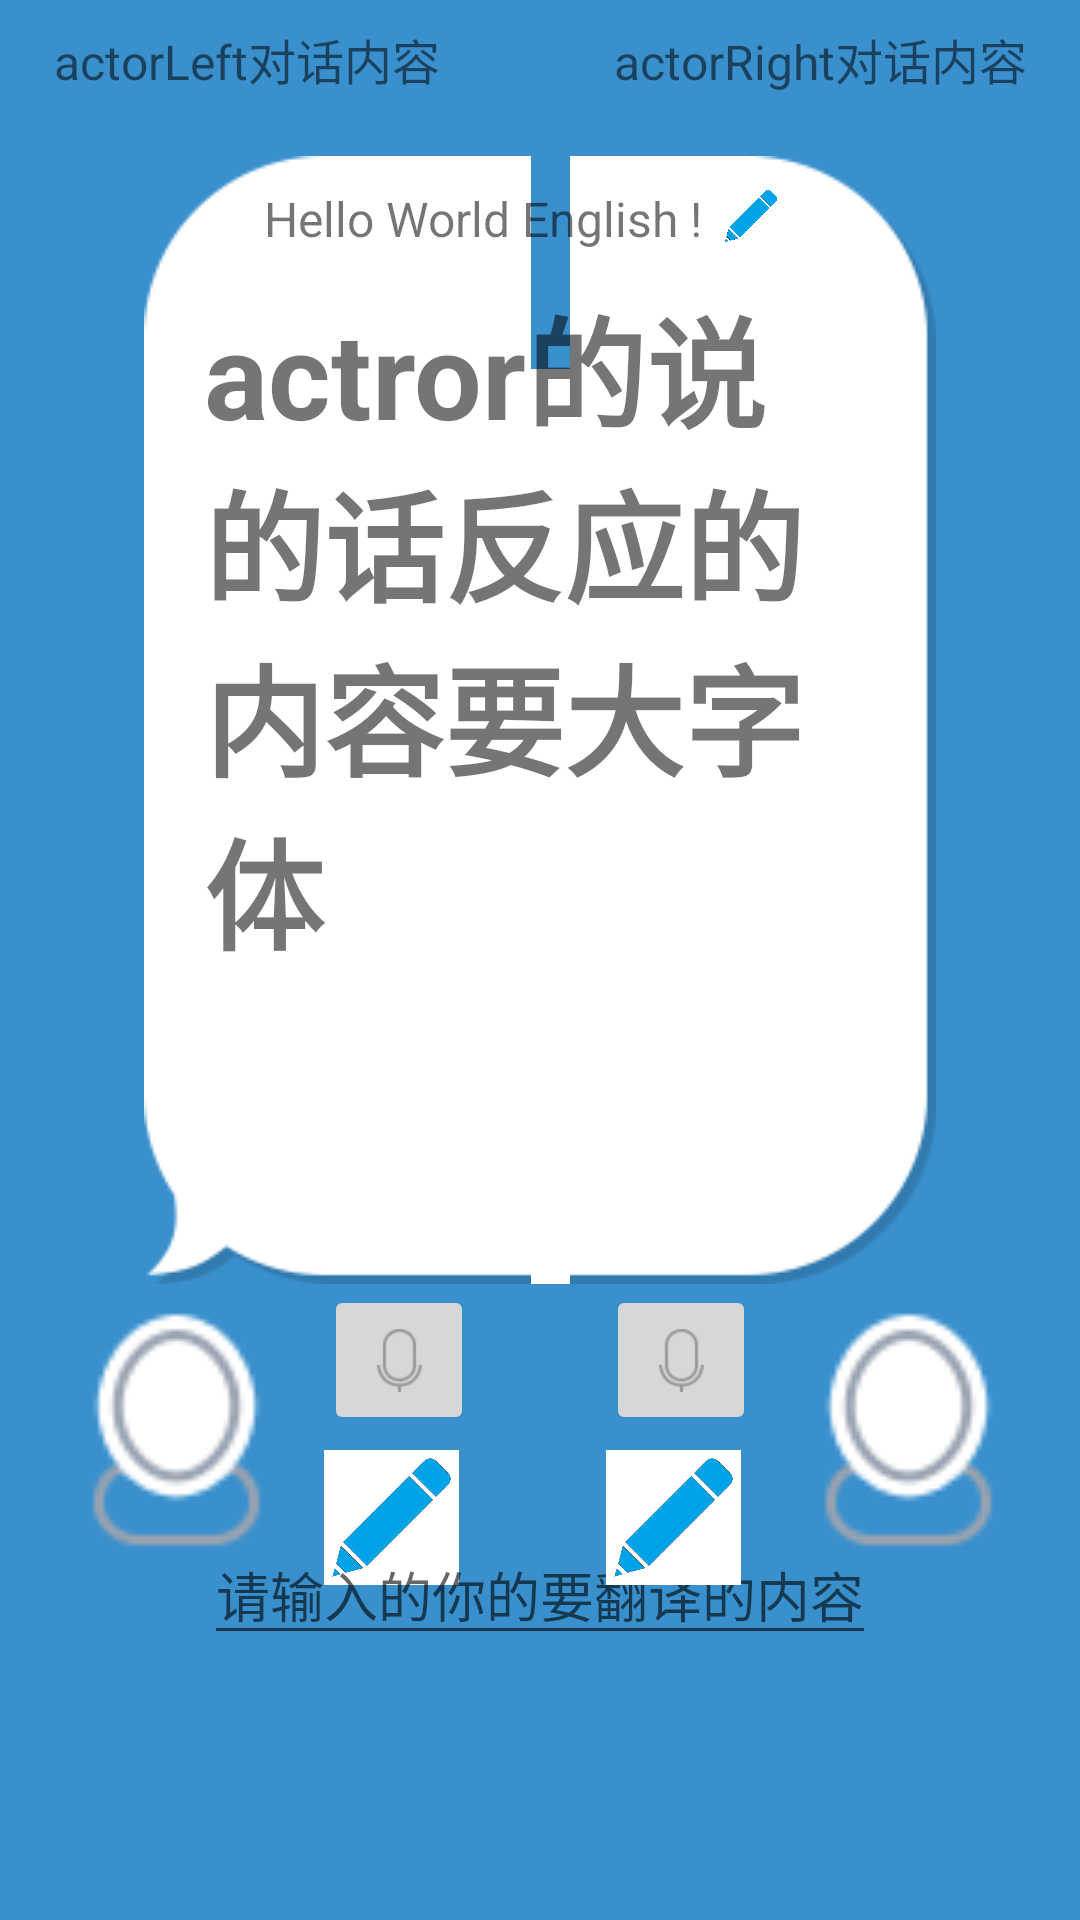

Where to tap for icons on this 1080 x 1920 app screen, as point (x, y):
actor: point (207, 1449), point (903, 1449)
